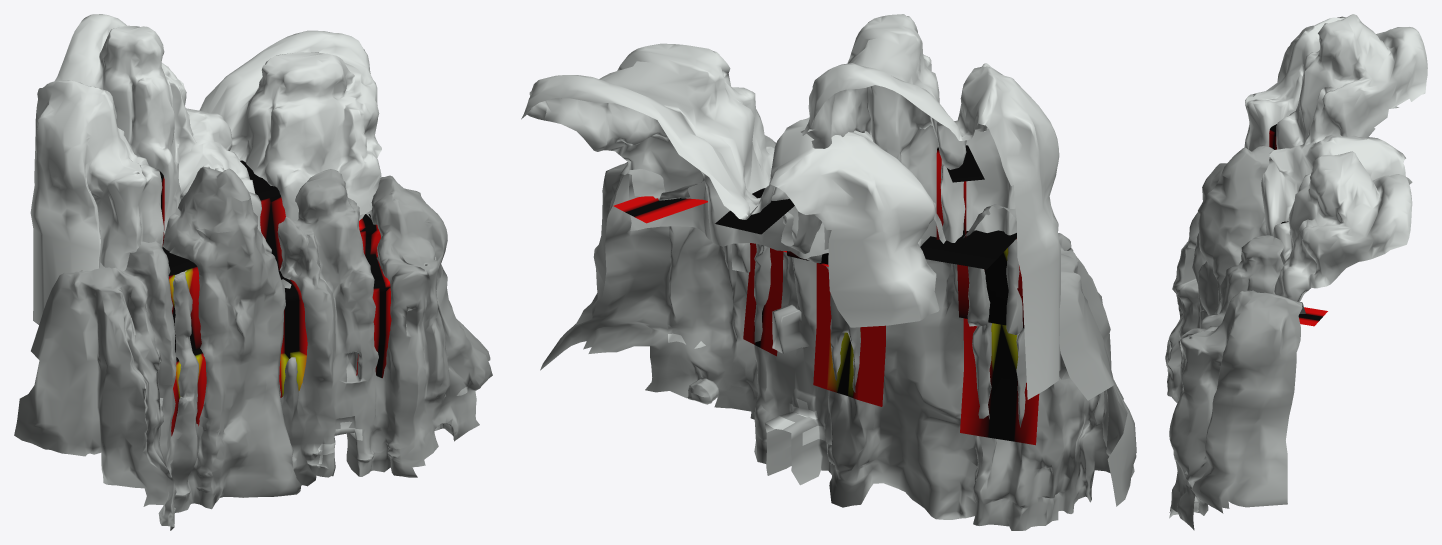
3 views of the same model, side by side, from view 1: azimuth 30°, elevation 25°; view 2: azimuth 150°, elevation 25°; view 3: azimuth 270°, elevation 25° (orthographic). The views are drawn at different scales.
Parts seen in each view (by area): view 1: G:\FFXIV-MapTools\exports\g3t1\bg\ex2\01_gyr_g3\twn\g3t1\bgp (×6); view 2: G:\FFXIV-MapTools\exports\g3t1\bg\ex2\01_gyr_g3\twn\g3t1\bgp (×7); view 3: G:\FFXIV-MapTools\exports\g3t1\bg\ex2\01_gyr_g3\twn\g3t1\bgp (×4).
Part boxes in pixels (x1=…): G:\FFXIV-MapTools\exports\g3t1\bg\ex2\01_gyr_g3\twn\g3t1\bgp (×6): x1=14, y1=14, x2=492, y2=530; G:\FFXIV-MapTools\exports\g3t1\bg\ex2\01_gyr_g3\twn\g3t1\bgp (×7): x1=521, y1=14, x2=1136, y2=530; G:\FFXIV-MapTools\exports\g3t1\bg\ex2\01_gyr_g3\twn\g3t1\bgp (×4): x1=1165, y1=14, x2=1427, y2=530.
Size of the model in its own units: 370 by 348 by 198.
